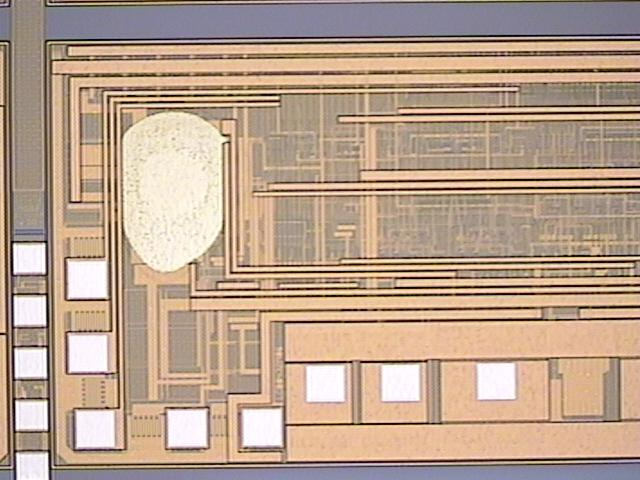BLOCK ETCH: (121, 105, 230, 286)
